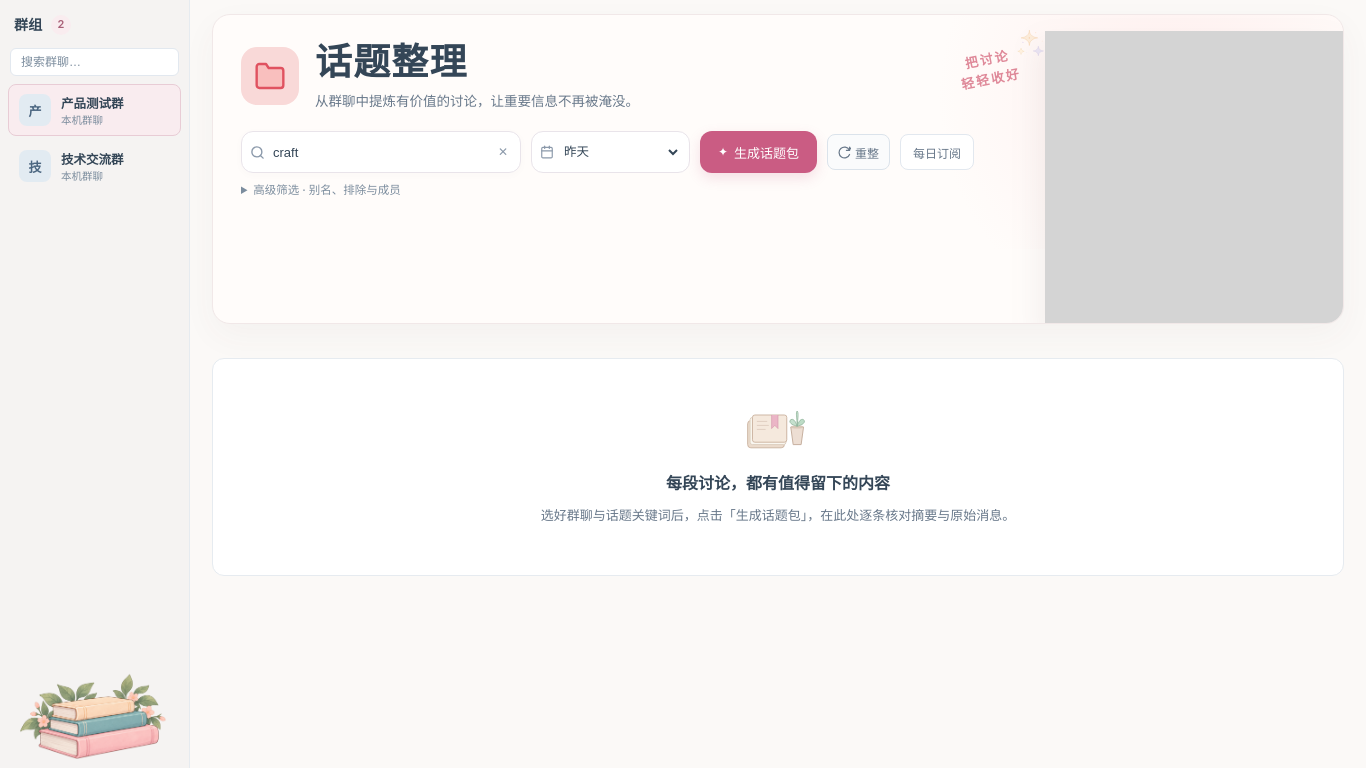
Test: TopicsHomePage Defect Regression Tests › Defect 4: shows a visible alert when date range is reversed (start > end)
The width and height of the screenshot is (1366, 768).
// Select custom date range
Select "自定义时间范围…" in the dropdown named "时间跨度快捷选择" at (620, 152), box [560,144,681,160]
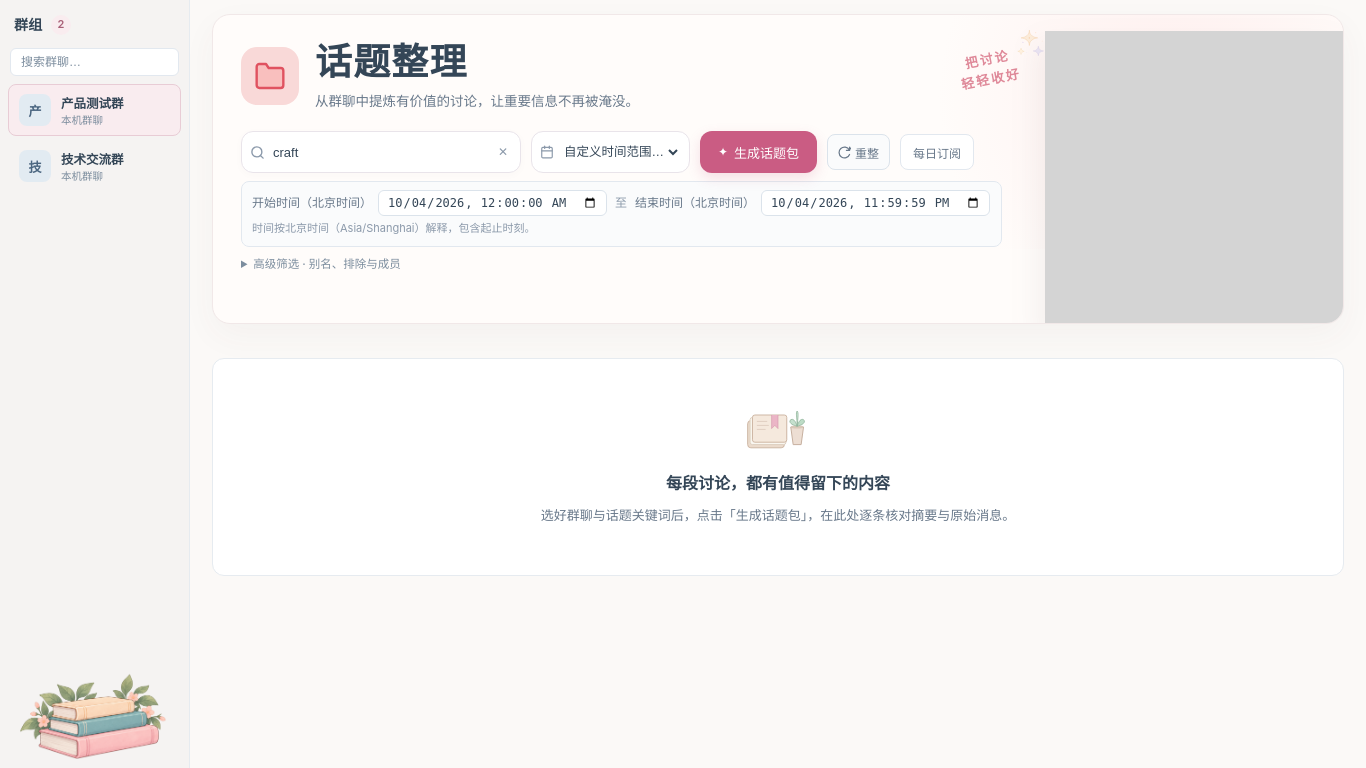
// Set reversed dates: start 2026-09-22, end 2026-09-20
Replace the text in the field labelled "开始时间" with "2026-09-22T10:00:00" at (492, 203), box [378,190,607,216]
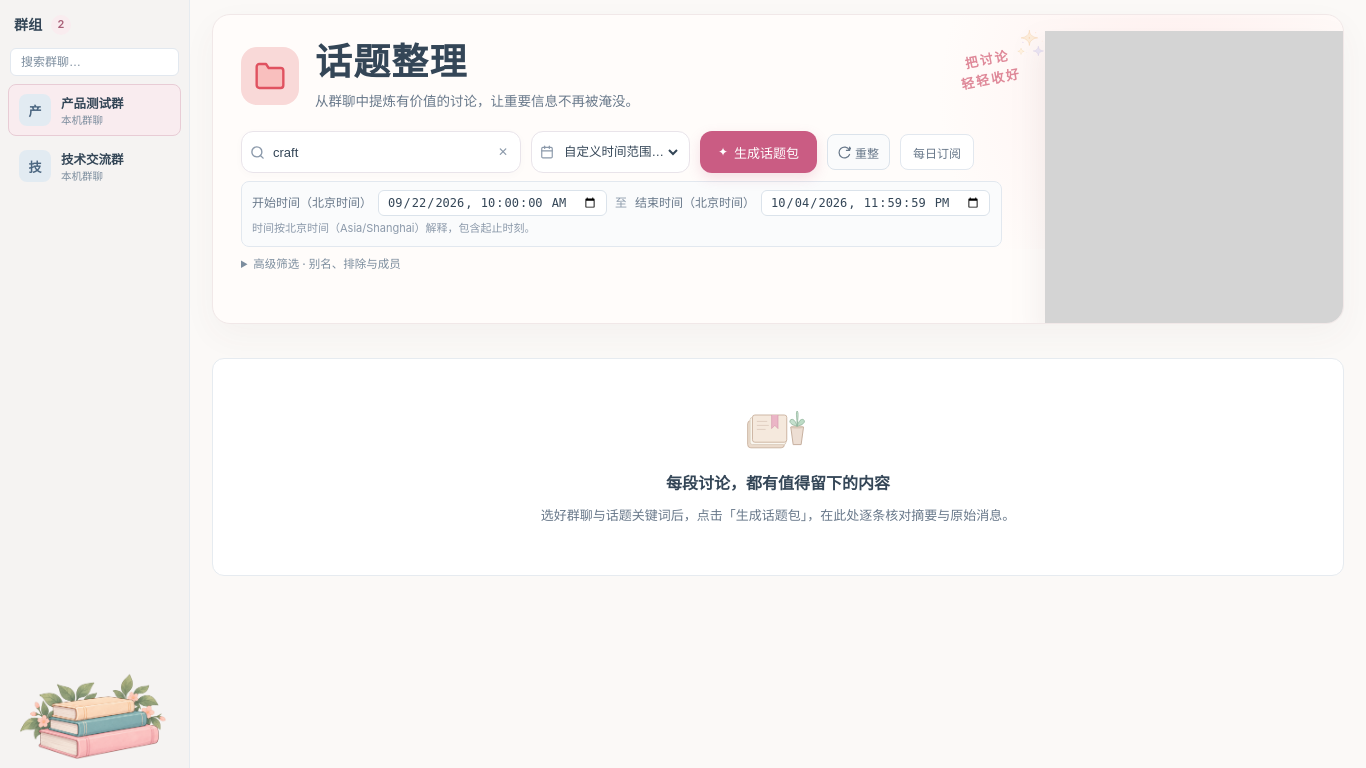
Replace the text in the field labelled "结束时间" with "2026-09-20T10:00:00" at (876, 203), box [761,190,990,216]
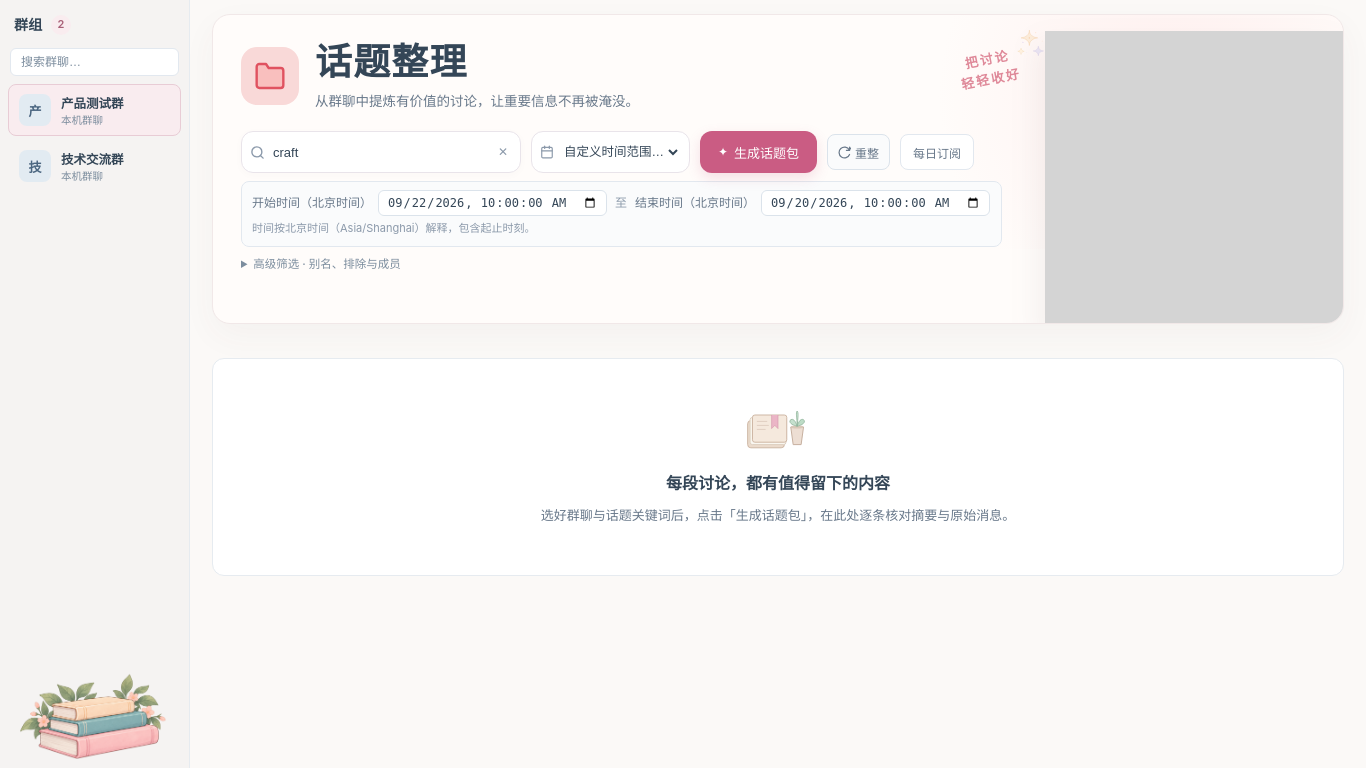
// Click Generate
Click the button "✦ 生成话题包" at (759, 152), box [700,131,817,173]
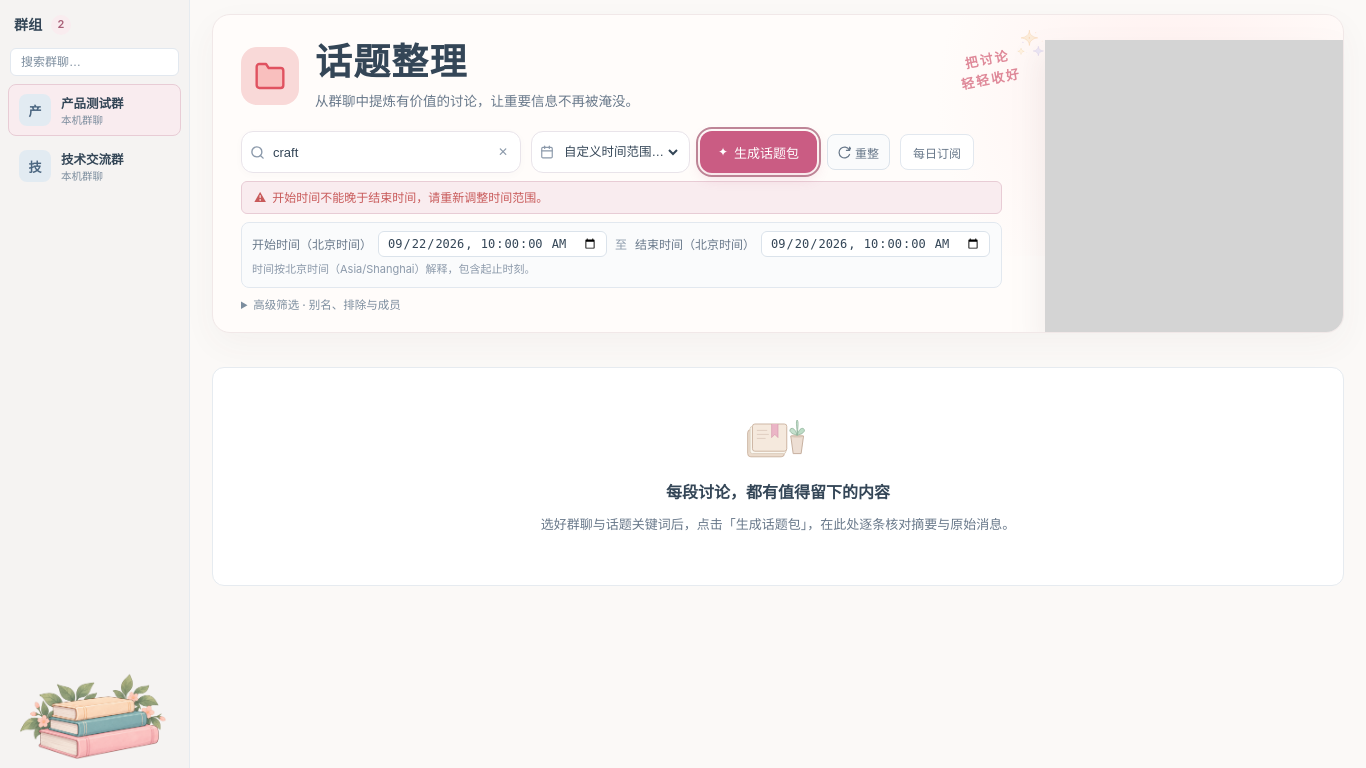
Now the message "⚠ 开始时间不能晚于结束时间，请重新调整时间范围。" is shown, box [241,181,1002,214]
Now the message shows "开始时间不能晚于结束时间", box [272,190,548,205]
